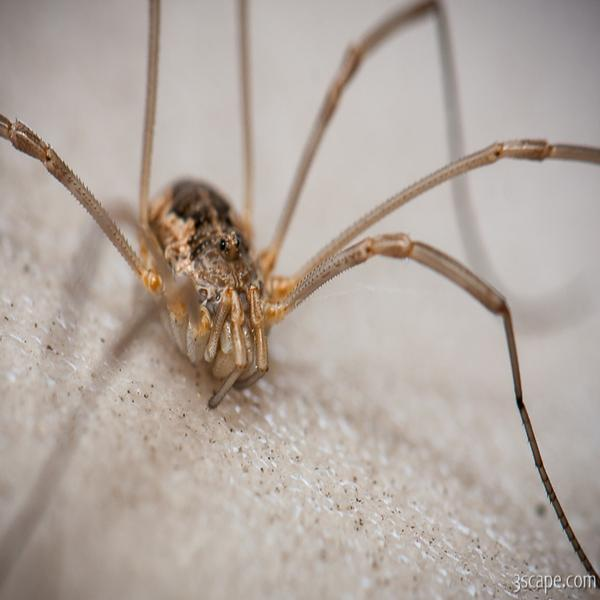Daddy Long Legs Spider: (4, 3, 593, 575)
